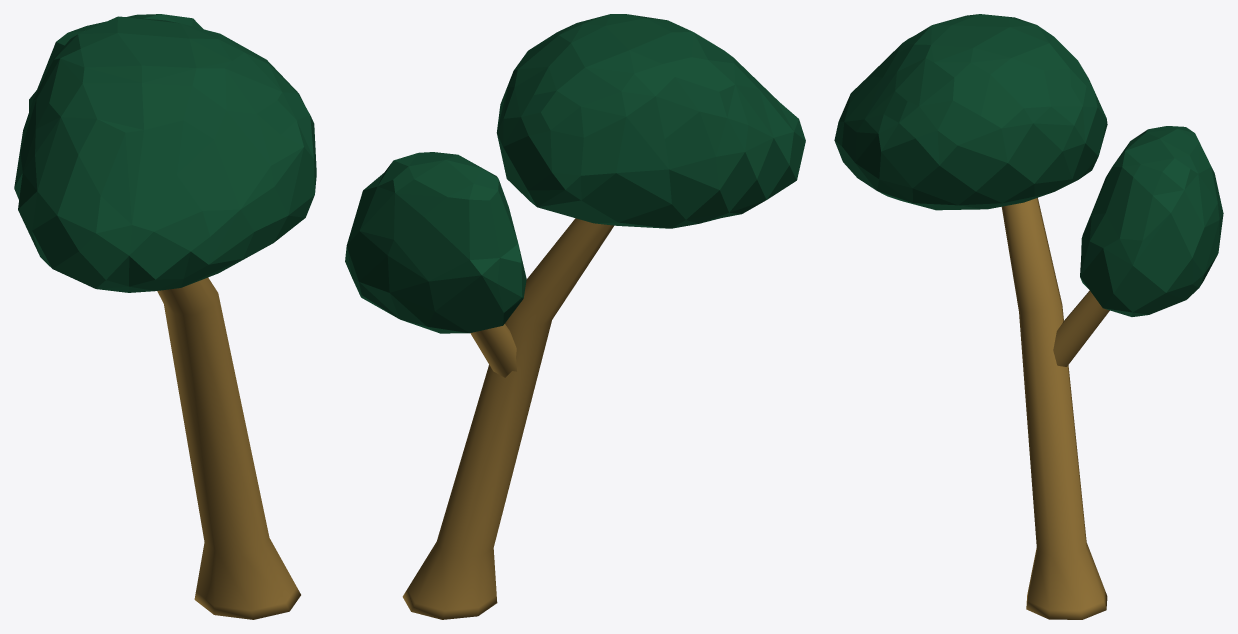
Rendered from Tree1.gltf.
3 views of the same model, side by side, from view 1: azimuth 30°, elevation 25°; view 2: azimuth 150°, elevation 25°; view 3: azimuth 270°, elevation 25° (orthographic). The views are drawn at different scales.
Parts seen in each view (by area): view 1: crown 1.001, tree 1, crown 1; view 2: crown 1.001, crown 1, tree 1; view 3: crown 1.001, tree 1, crown 1.
Part boxes in pixels (box(x1,y1,x2,y2)): crown 1.001: box(14, 16, 316, 292); tree 1: box(157, 277, 300, 619); crown 1: box(29, 14, 203, 111); crown 1.001: box(496, 14, 805, 228); crown 1: box(345, 152, 526, 333); tree 1: box(402, 218, 613, 619); crown 1.001: box(834, 14, 1107, 210); tree 1: box(1001, 198, 1109, 619); crown 1: box(1080, 126, 1223, 316).
Bounding box in the file's own units: 2.13 × 3.6 × 2.49.
